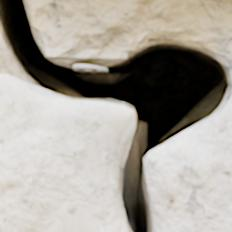broken_brick: (0, 73, 131, 231), (147, 94, 231, 231)
crack: (0, 0, 231, 231)
